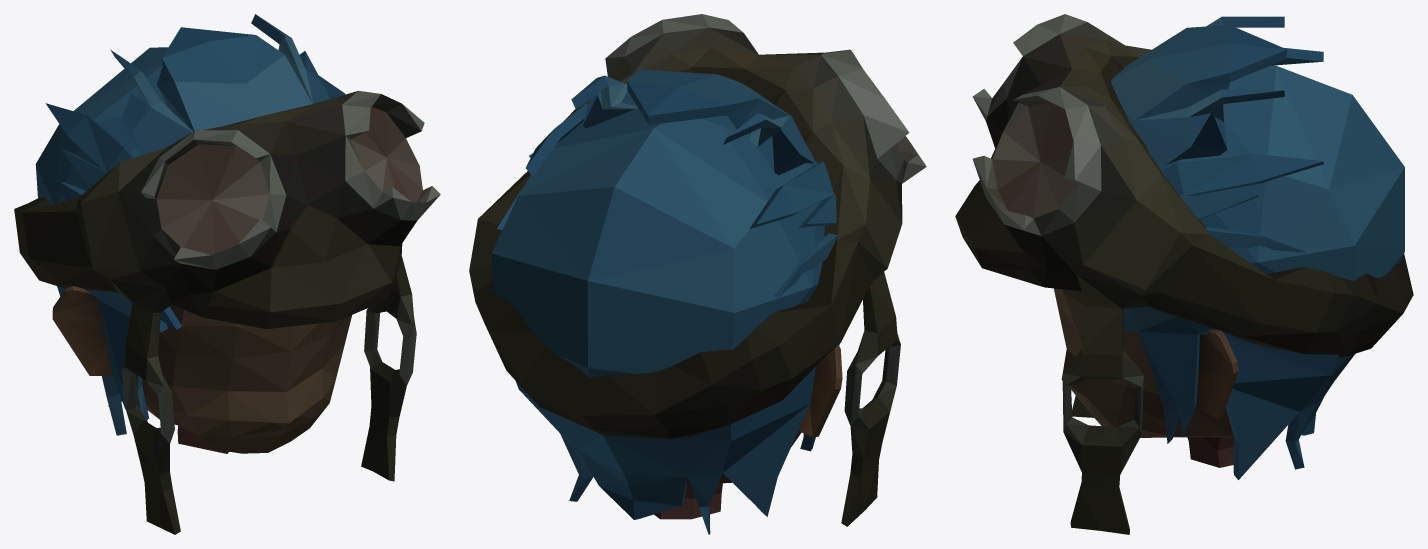
File: helm_darkskin_spike_blue_goggles.fbx
The picture shows the model from 3 angles, left to right: view 1: azimuth 30°, elevation 25°; view 2: azimuth 150°, elevation 25°; view 3: azimuth 270°, elevation 25°; orthographic projection. The views are drawn at different scales.
Parts seen in each view (by area): view 1: helm_darkskin_spike_blue_goggles; view 2: helm_darkskin_spike_blue_goggles; view 3: helm_darkskin_spike_blue_goggles.
Part boxes in pixels (x1,y1,x2,y2): helm_darkskin_spike_blue_goggles: (14,14,440,534); helm_darkskin_spike_blue_goggles: (469,14,926,534); helm_darkskin_spike_blue_goggles: (955,14,1413,534).
Bounding box in the file's own units: 1.21 × 1.45 × 1.39.
